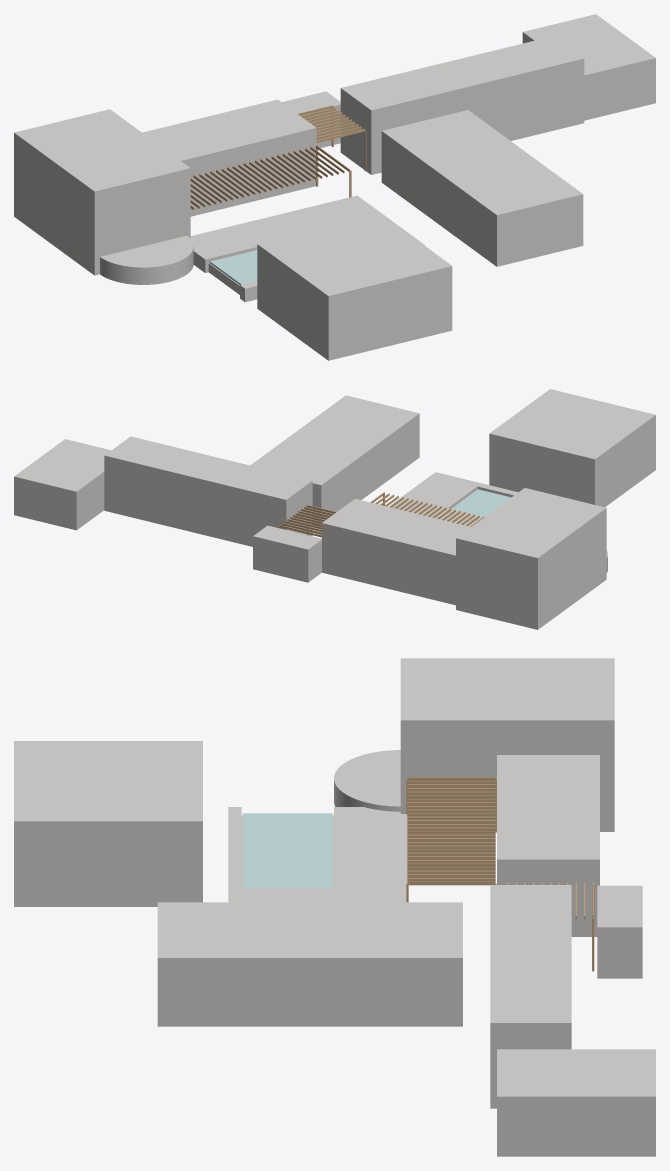
File: villa-S-arch.glb
The picture shows the model from 3 angles, top to bottom: view 1: azimuth 30°, elevation 25°; view 2: azimuth 150°, elevation 25°; view 3: azimuth 270°, elevation 25°; orthographic projection. The views are drawn at different scales.
Parts seen in each view (by area): view 1: n6, n0, n5, n3, n1, n4, n7, n12, n2, n11; view 2: n0, n3, n6, n5, n1, n4, n2, n9, n11, n7, n8; view 3: n5, n6, n0, n4, n1, n3, n7, n11, n2, n12, n9, n8.
Boxes of the visible parts, <box> form: n6: <box>257,214,452,360</box>; n0: <box>14,109,190,275</box>; n5: <box>381,110,583,266</box>; n3: <box>340,36,584,174</box>; n1: <box>142,99,316,216</box>; n4: <box>522,14,655,120</box>; n7: <box>190,195,384,272</box>; n12: <box>100,235,193,284</box>; n2: <box>282,91,340,147</box>; n11: <box>210,250,257,284</box>; n0: <box>456,488,606,629</box>; n3: <box>104,436,312,546</box>; n6: <box>489,389,655,507</box>; n5: <box>250,395,419,527</box>; n1: <box>322,499,470,605</box>; n4: <box>14,439,110,530</box>; n2: <box>253,525,321,582</box>; n9: <box>402,475,477,508</box>; n11: <box>451,489,510,516</box>; n7: <box>388,497,482,526</box>; n8: <box>431,472,517,497</box>; n5: <box>157,902,462,1026</box>; n6: <box>14,741,202,906</box>; n0: <box>400,658,614,831</box>; n4: <box>497,1049,655,1156</box>; n1: <box>497,755,599,936</box>; n3: <box>490,885,571,1108</box>; n7: <box>334,807,407,902</box>; n11: <box>243,813,332,888</box>; n2: <box>597,885,642,978</box>; n12: <box>334,750,400,811</box>; n9: <box>241,888,333,902</box>; n8: <box>228,807,241,902</box>.
Bounding box in the file's own units: 48.38 × 6.5 × 33.93.
